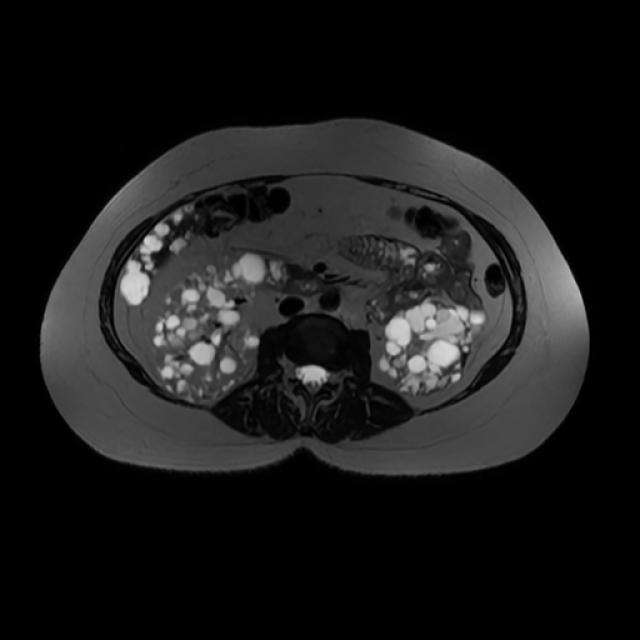sag: (158, 253, 271, 401)
sol: (382, 306, 490, 395)
